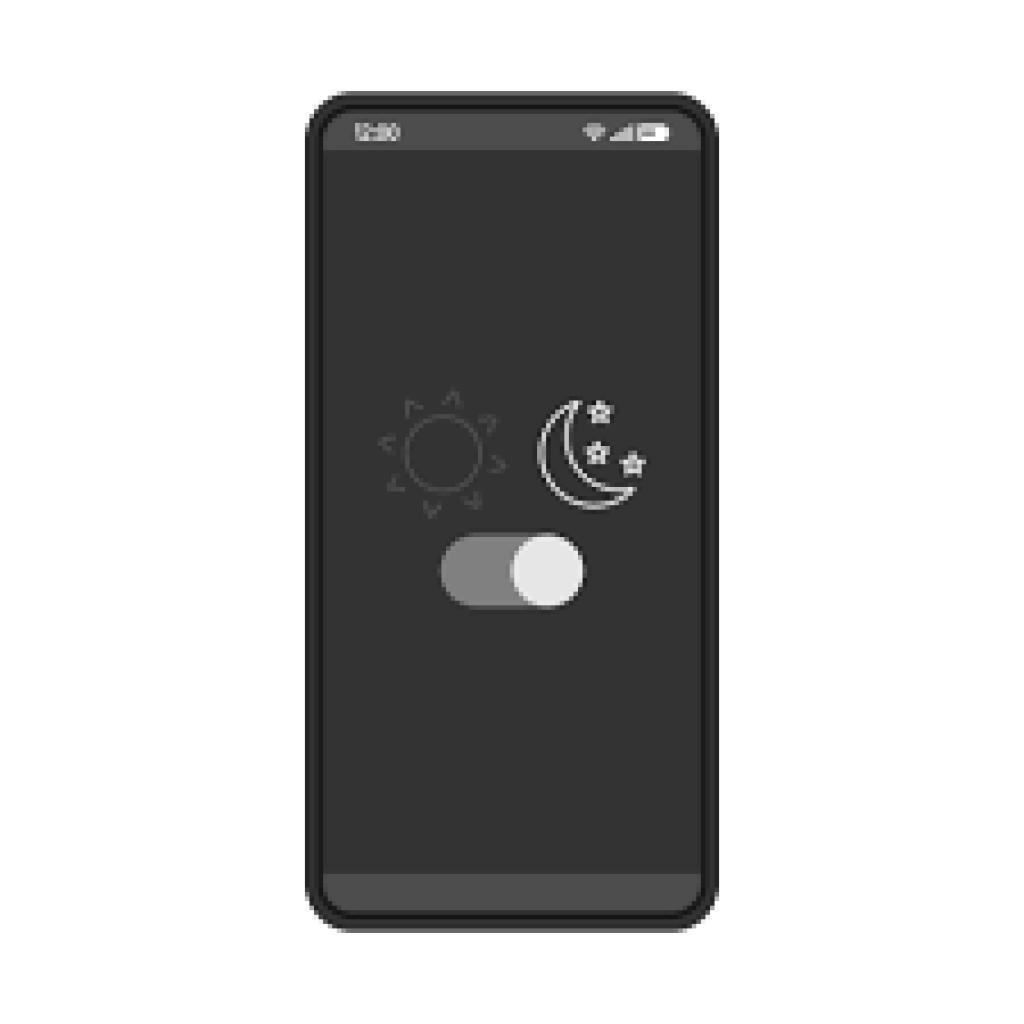switch: (441, 536, 588, 611)
